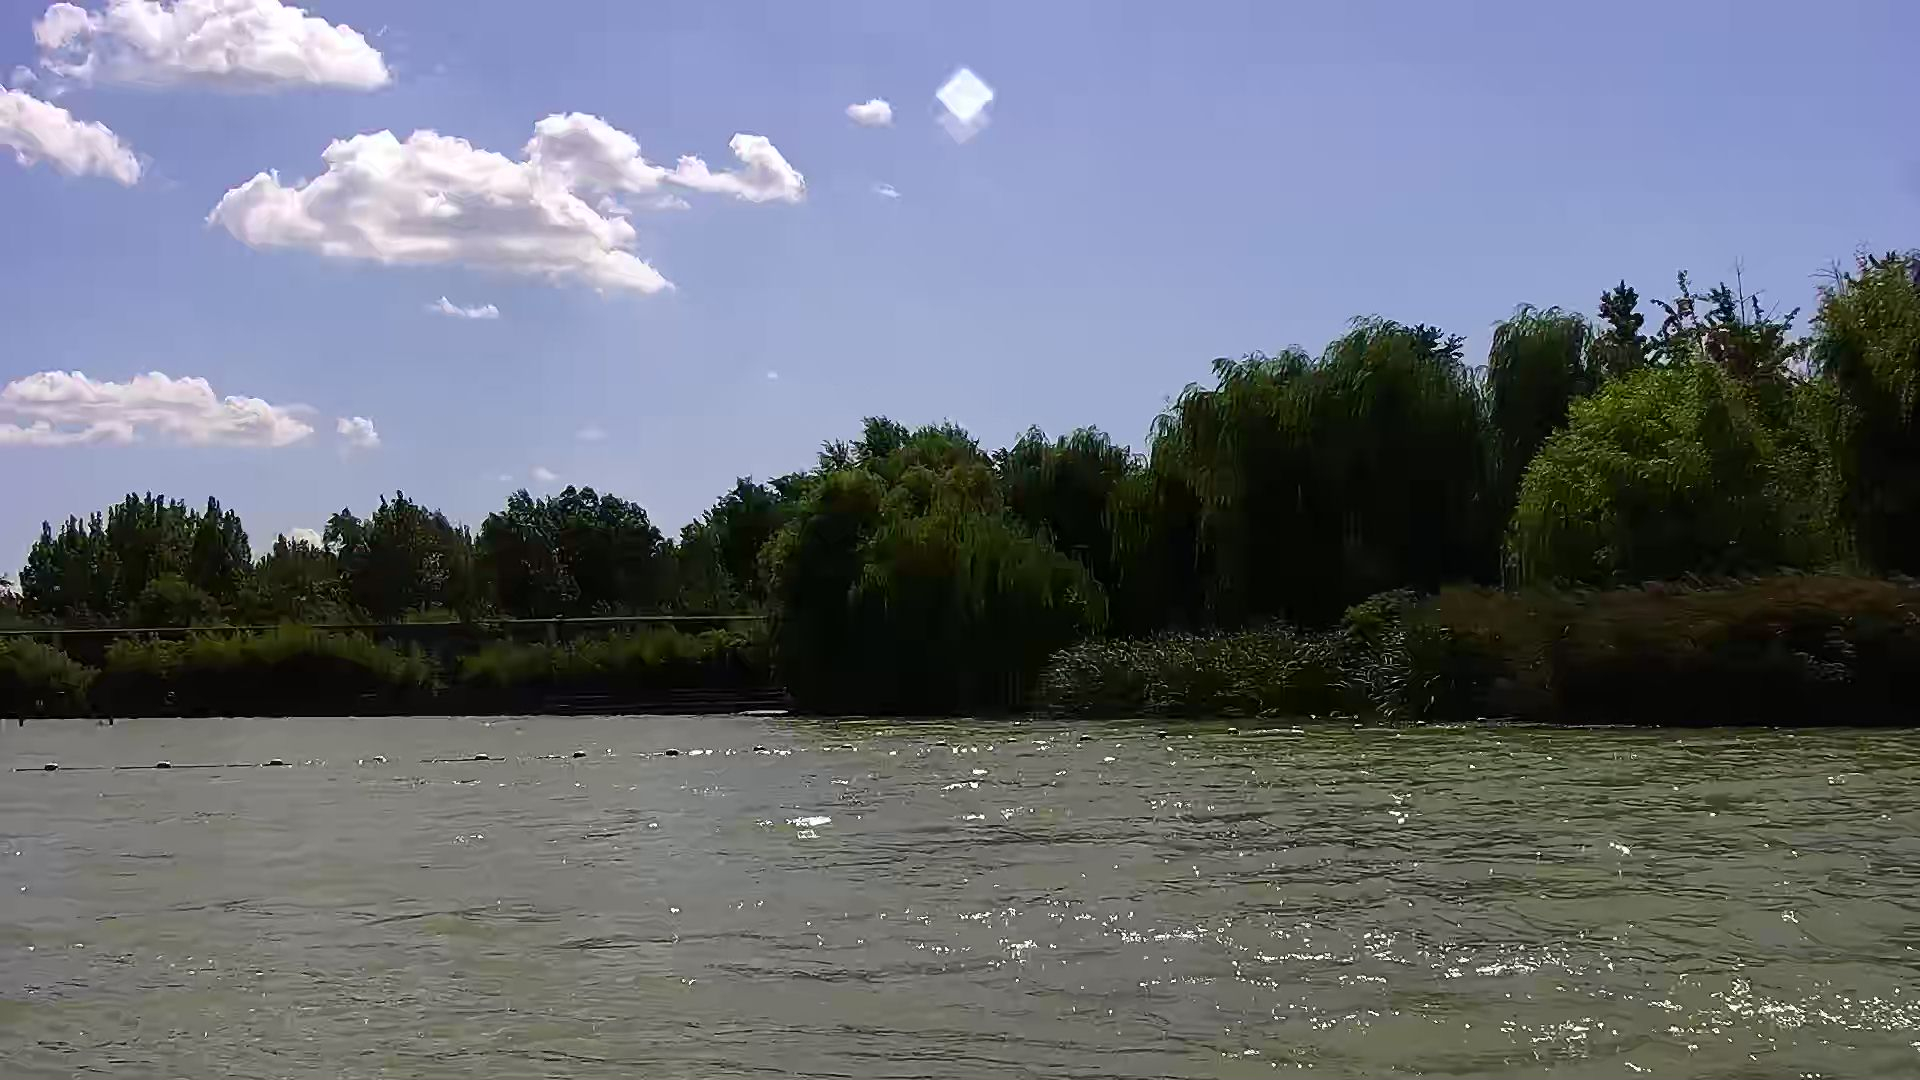ball: (468, 742, 497, 767), (150, 752, 177, 777), (568, 746, 597, 767), (264, 752, 287, 773), (40, 758, 59, 778)
